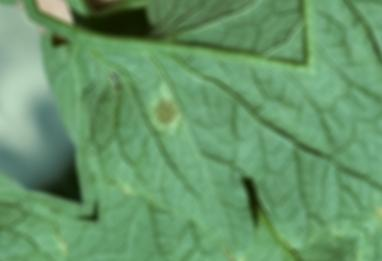Tomato mold leaf: (0, 0, 382, 261), (1, 0, 382, 261)
